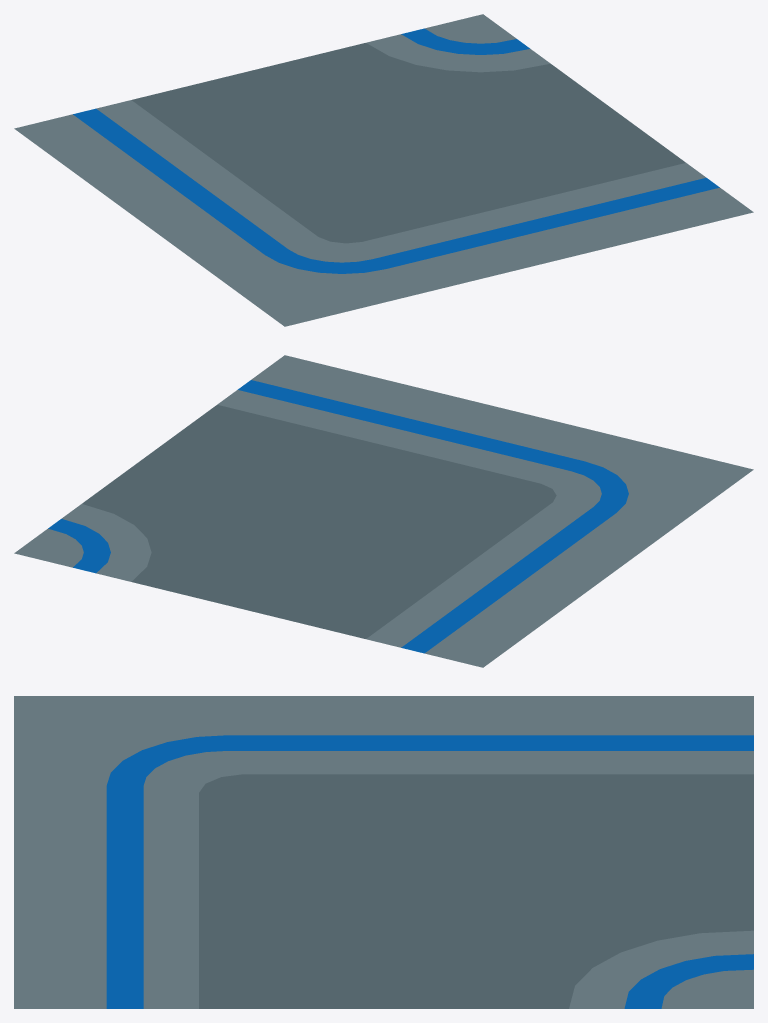
The model's file is Ceiling_type_C_041.fbx.
3 renders of one model, top to bottom at view 1: azimuth 30°, elevation 25°; view 2: azimuth 150°, elevation 25°; view 3: azimuth 270°, elevation 25°, orthographic. The views are drawn at different scales.
Visible parts, largest first — view 1: Ceiling_type_C_041; view 2: Ceiling_type_C_041; view 3: Ceiling_type_C_041.
Boxes of the visible parts, <box> form: Ceiling_type_C_041: <box>14,14,753,326</box>; Ceiling_type_C_041: <box>14,355,753,667</box>; Ceiling_type_C_041: <box>14,696,753,1008</box>.
Bounding box in the file's own units: 400 × 400 × 1.2.
